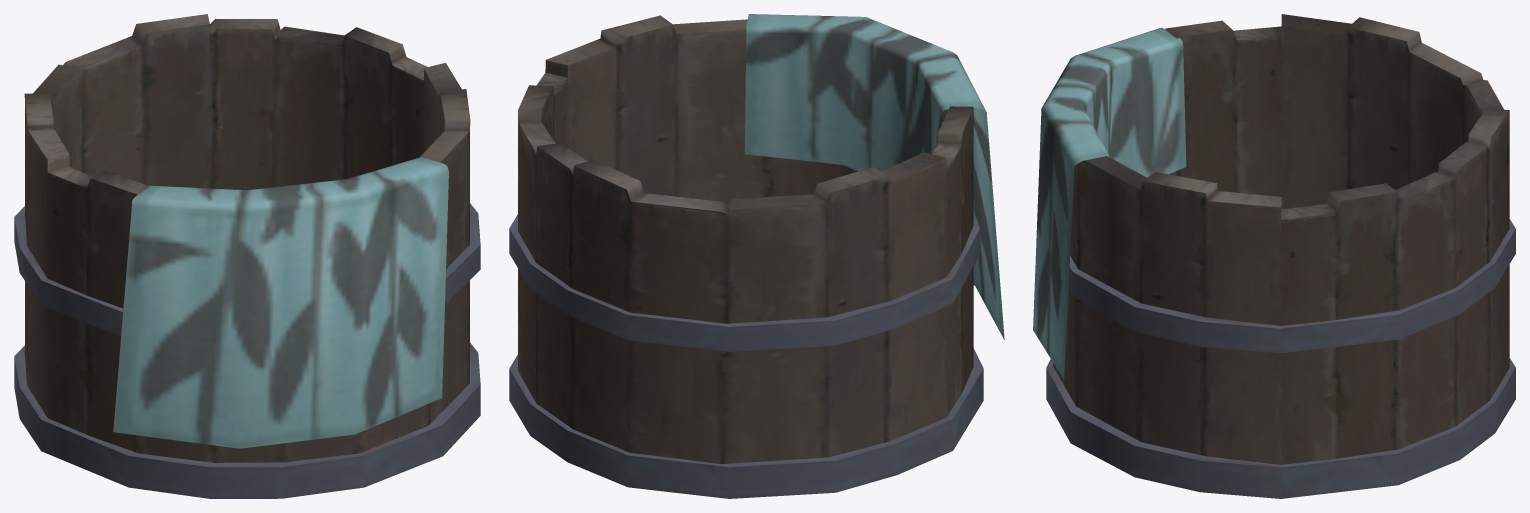
File: Homeworld_Exterior_Dq_Decoration_Basin_01_Vo.fbx
The picture shows the model from 3 angles, left to right: view 1: azimuth 30°, elevation 25°; view 2: azimuth 150°, elevation 25°; view 3: azimuth 270°, elevation 25°; orthographic projection.
Visible parts, largest first — view 1: Area_Dq_Prop_MS_Basin_01_Vo; view 2: Area_Dq_Prop_MS_Basin_01_Vo; view 3: Area_Dq_Prop_MS_Basin_01_Vo.
Part boxes in pixels (x1,y1,x2,y2): Area_Dq_Prop_MS_Basin_01_Vo: (14,14,480,498); Area_Dq_Prop_MS_Basin_01_Vo: (509,14,1004,498); Area_Dq_Prop_MS_Basin_01_Vo: (1033,14,1515,498).
Bounding box in the file's own units: 0.8029 × 0.5557 × 0.8209.
